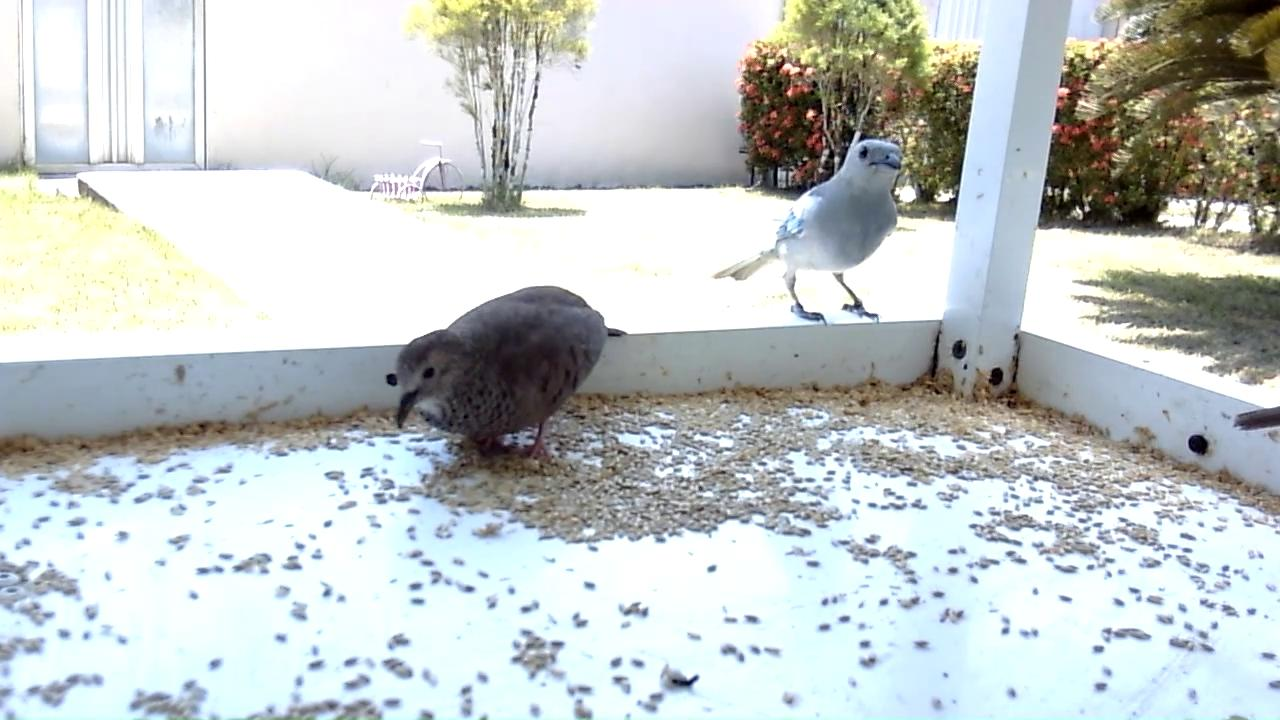rolinha: (393, 284, 630, 464)
sanhaco_da_amazonia: (715, 137, 909, 330)
